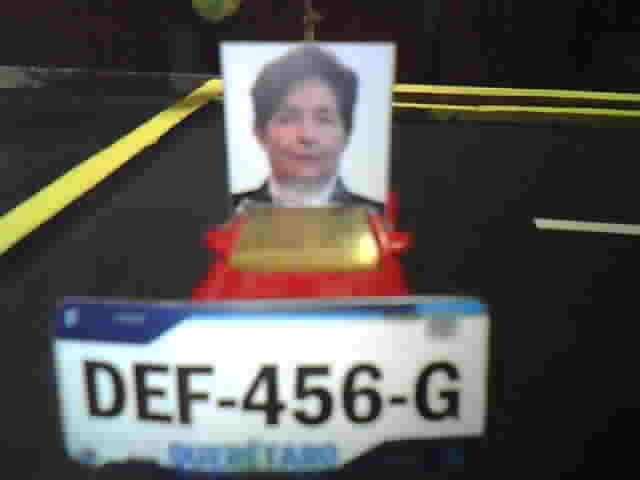PLACA: (46, 294, 493, 480)
ROSTRO: (227, 41, 385, 214)
